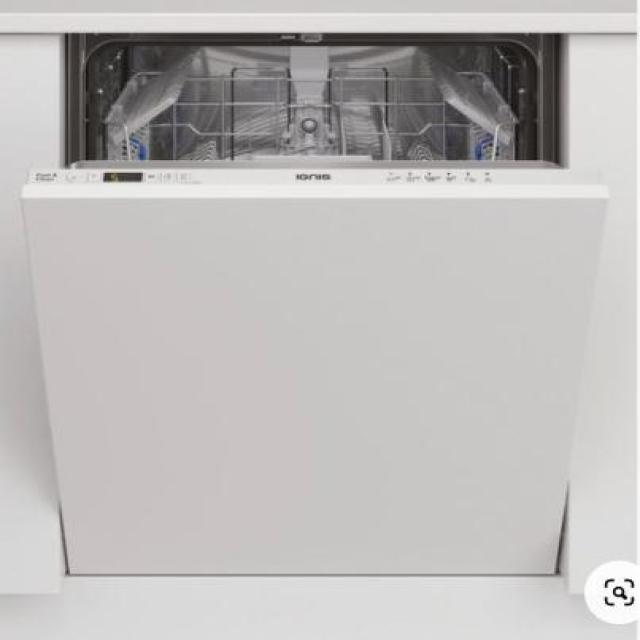dishwasher: (16, 30, 607, 584)
